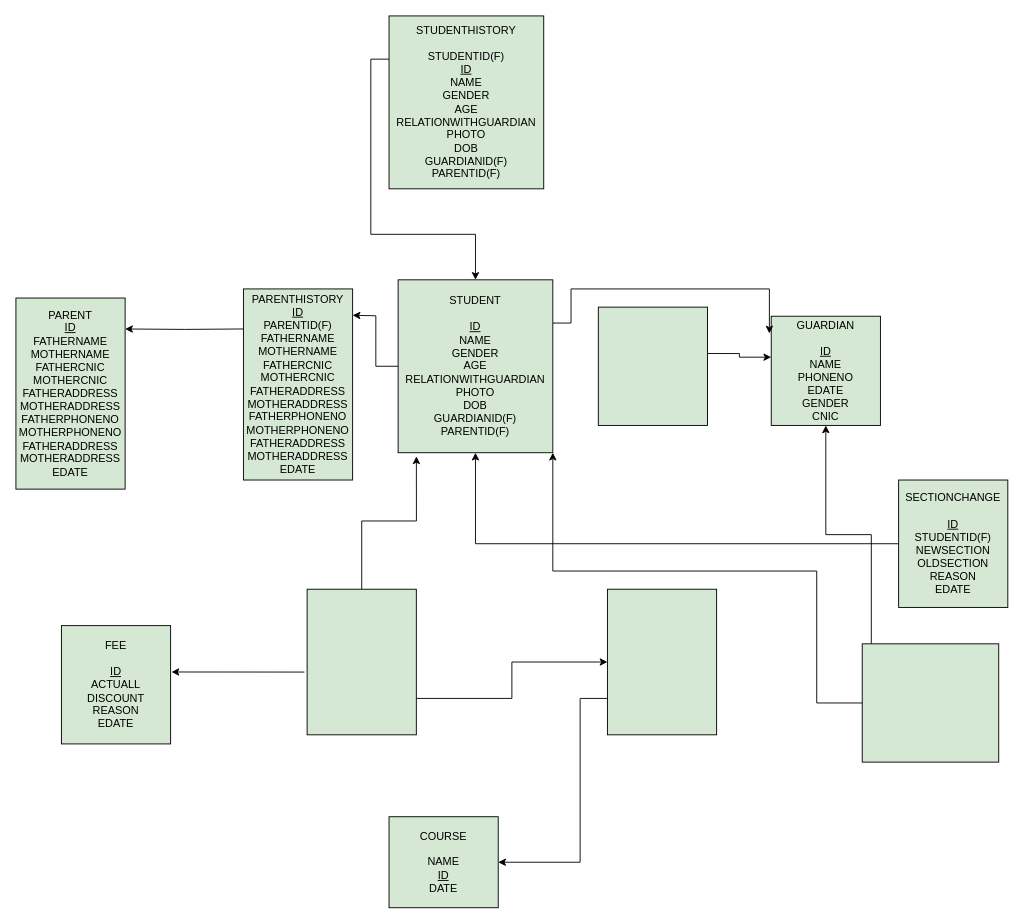
The diagram is 1024 pixels wide and 924 high, and some of its shapes have lost their labels. The shapes that lost their labels are listed below. From the top down, each one's centre as x and y in pixels, then its label:
the point at 652,365: GUARDIANHISTORY ID GUARDIANID(F) NAME PHONENO EDATE GENDER CNIC
the point at 361,661: REGISTRATION ID EDATE FEEID(F) STUDENTID(F) CLASSSECTION(F)
the point at 662,661: CLASSSECTION ID CLASS SECTION CUSTOMTITLE COURSE(F)
the point at 930,702: SPECIALACCPMPANY ID GUARDIANID(F) STUDENTID(F) EDATE
